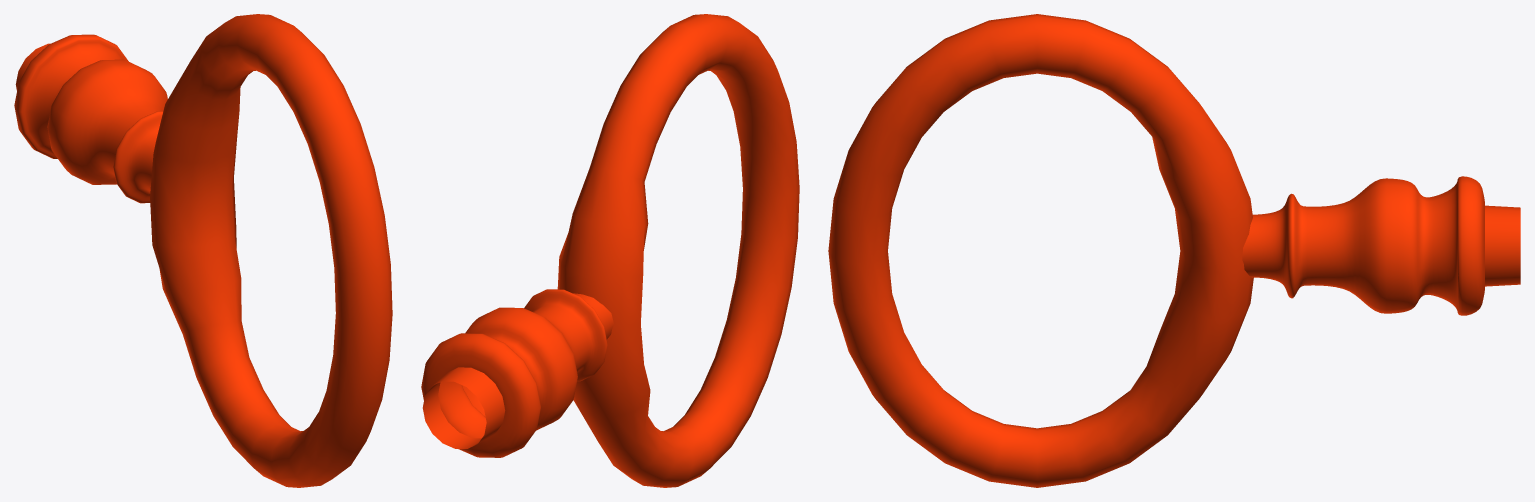
Rendered from Key_Top.FBX.
The picture shows the model from 3 angles, left to right: view 1: azimuth 30°, elevation 25°; view 2: azimuth 150°, elevation 25°; view 3: azimuth 270°, elevation 25°; orthographic projection. The views are drawn at different scales.
Visible parts, largest first — view 1: Ellipse01; view 2: Ellipse01; view 3: Ellipse01.
Part boxes in pixels (x1,y1,x2,y2): Ellipse01: [14, 14, 392, 487]; Ellipse01: [421, 14, 799, 487]; Ellipse01: [828, 14, 1520, 487].
Size of the model in its own units: 3.25 by 12.11 by 16.11.
